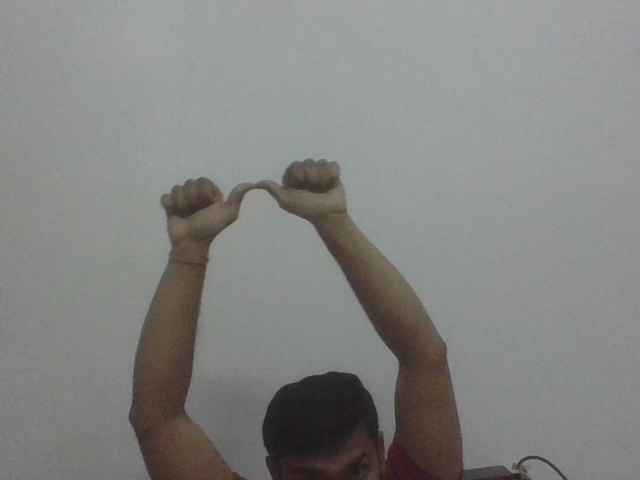A: (157, 154, 359, 239)
